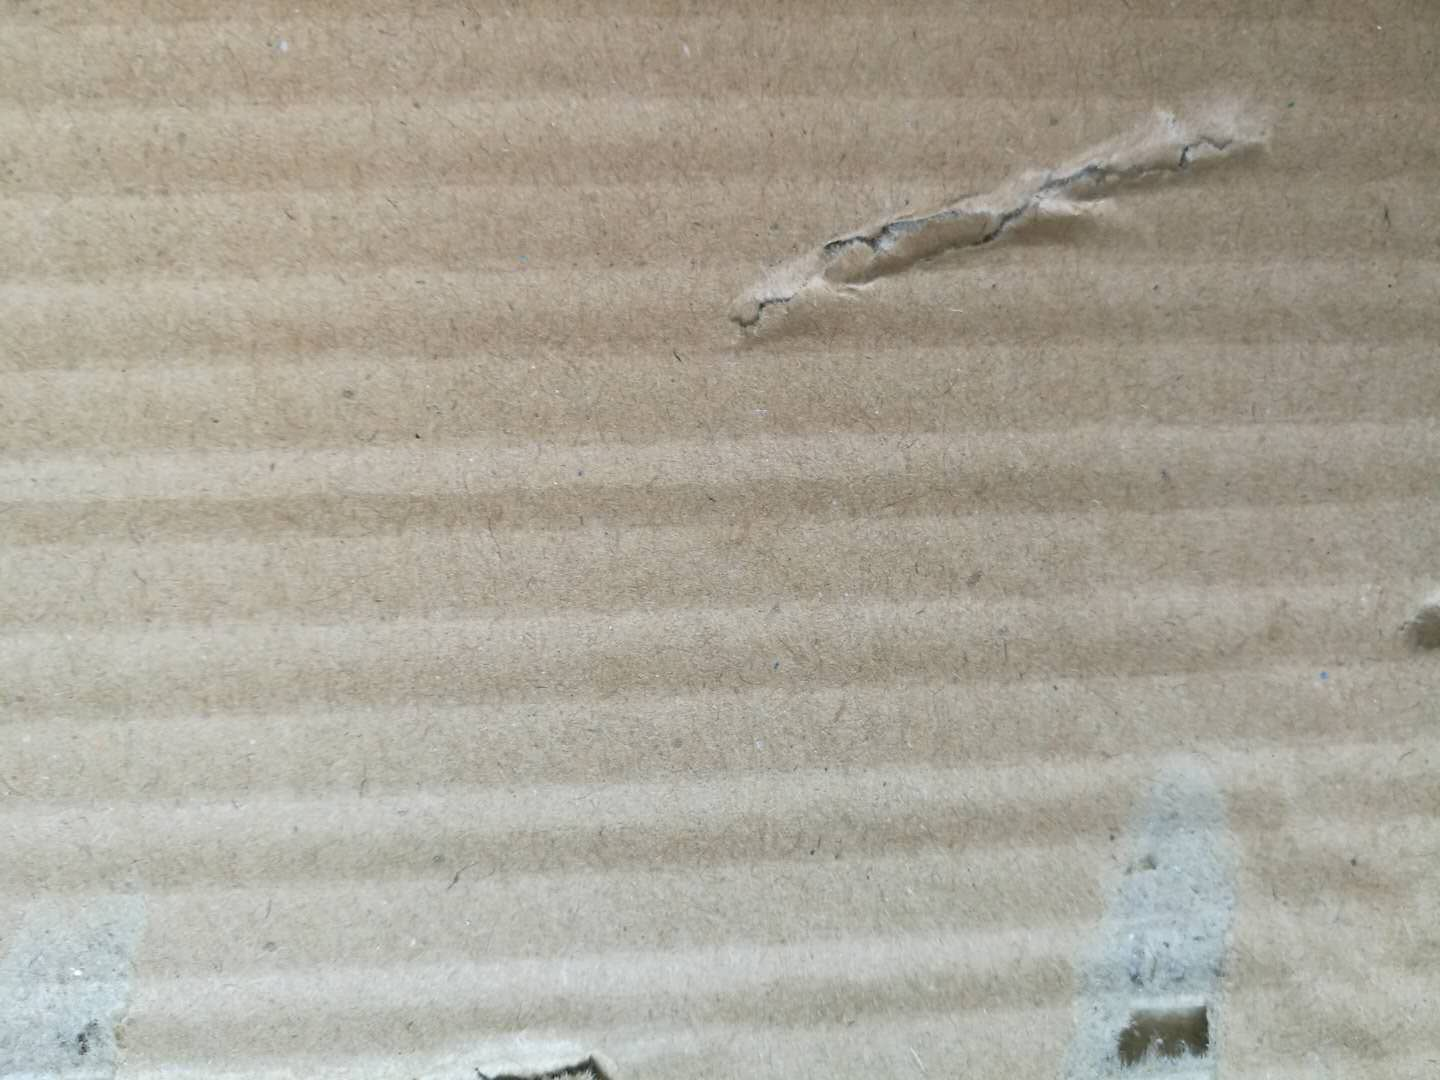defect: (685, 71, 1312, 371), (1020, 729, 1269, 1080), (2, 874, 181, 1080), (351, 1019, 649, 1080), (1375, 567, 1440, 693)
